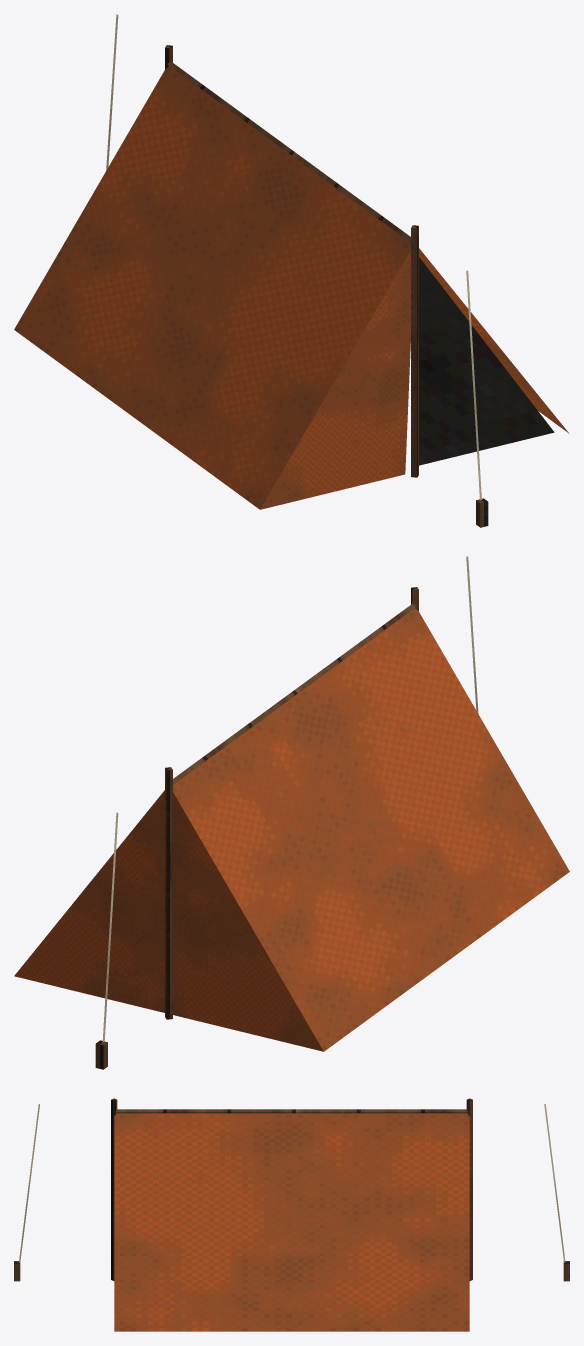
File: tienda.obj
3 renders of one model, top to bottom at view 1: azimuth 30°, elevation 25°; view 2: azimuth 150°, elevation 25°; view 3: azimuth 270°, elevation 25°, orthographic. The views are drawn at different scales.
Parts seen in each view (by area): view 1: tienda; view 2: tienda; view 3: tienda.
Boxes of the visible parts, x1,y1,x2,y2 form: tienda: (14, 14, 569, 527); tienda: (14, 556, 569, 1069); tienda: (14, 1098, 569, 1331).
Bounding box in the file's own units: 1.6 × 1.23 × 3.44.
4 materials, 4 textured.
